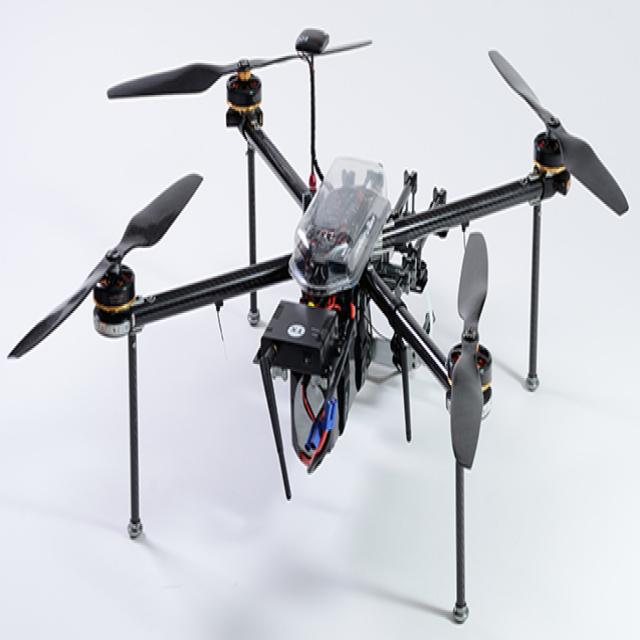drone: (81, 33, 633, 611)
